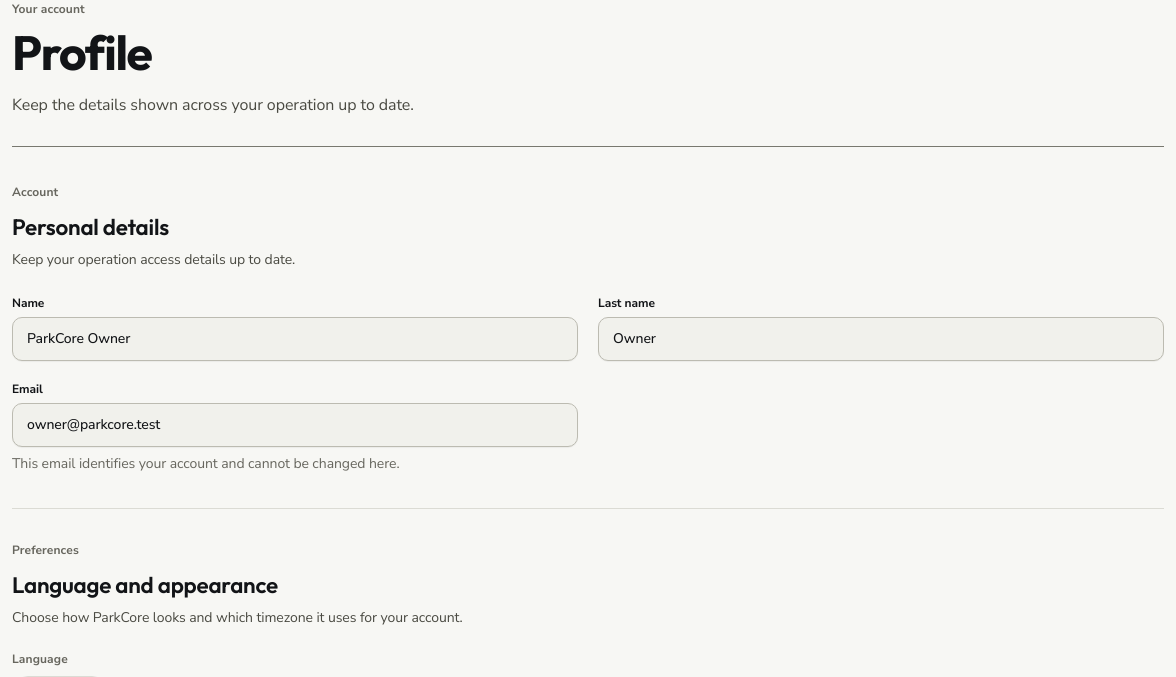
Test: owner profile route › shows localized save errors inline
This screenshot has width=1176, height=677.
Replace the text in the field labelled "Name" with "Grace". click: (295, 339)
box: [12, 317, 578, 361]
(page scrolled)
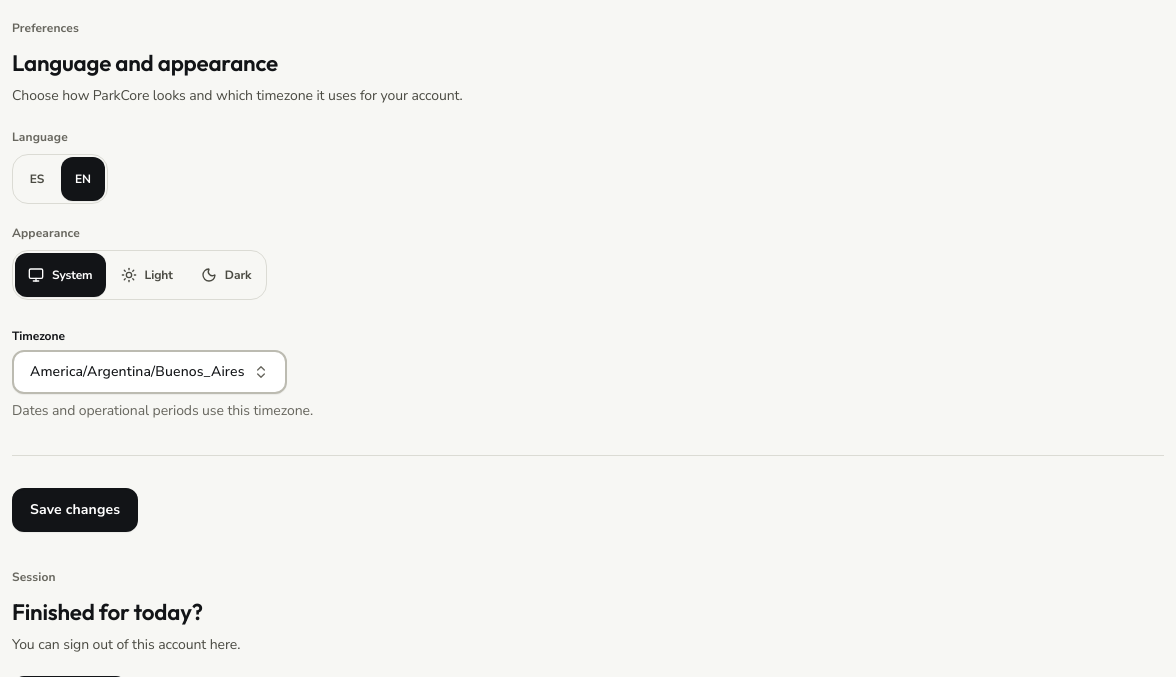
Click the button "Save changes". click: (75, 510)
box: [12, 488, 138, 532]
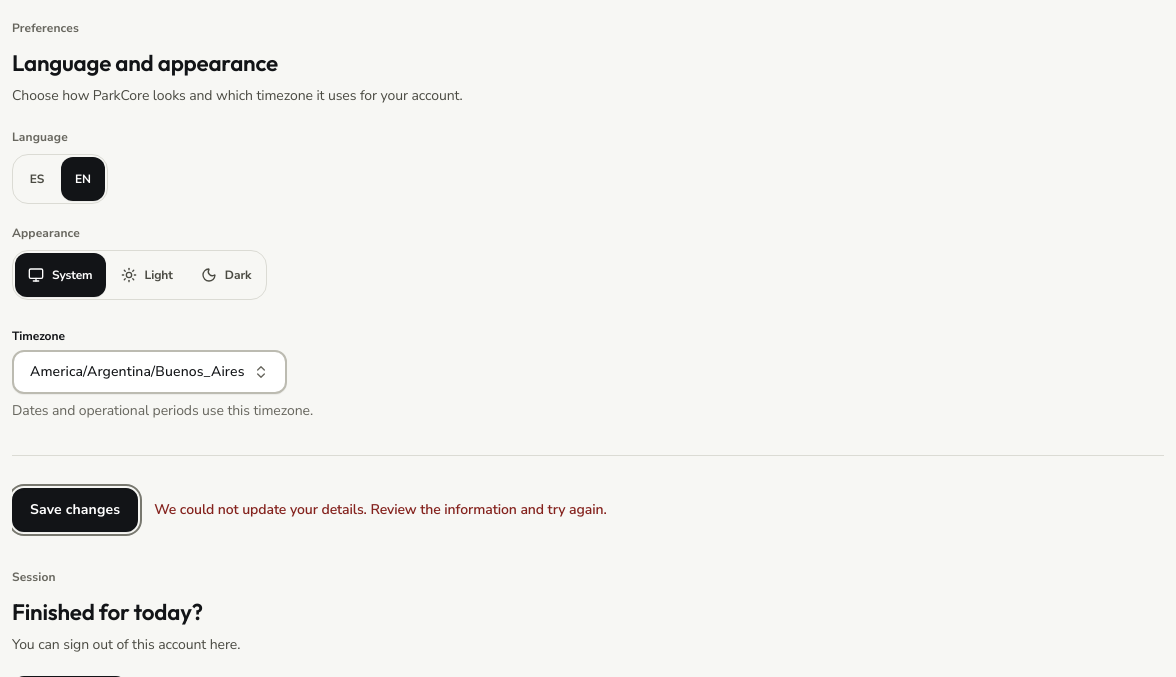
Now the message shows "We could not update your details.", box [154, 500, 607, 519]
